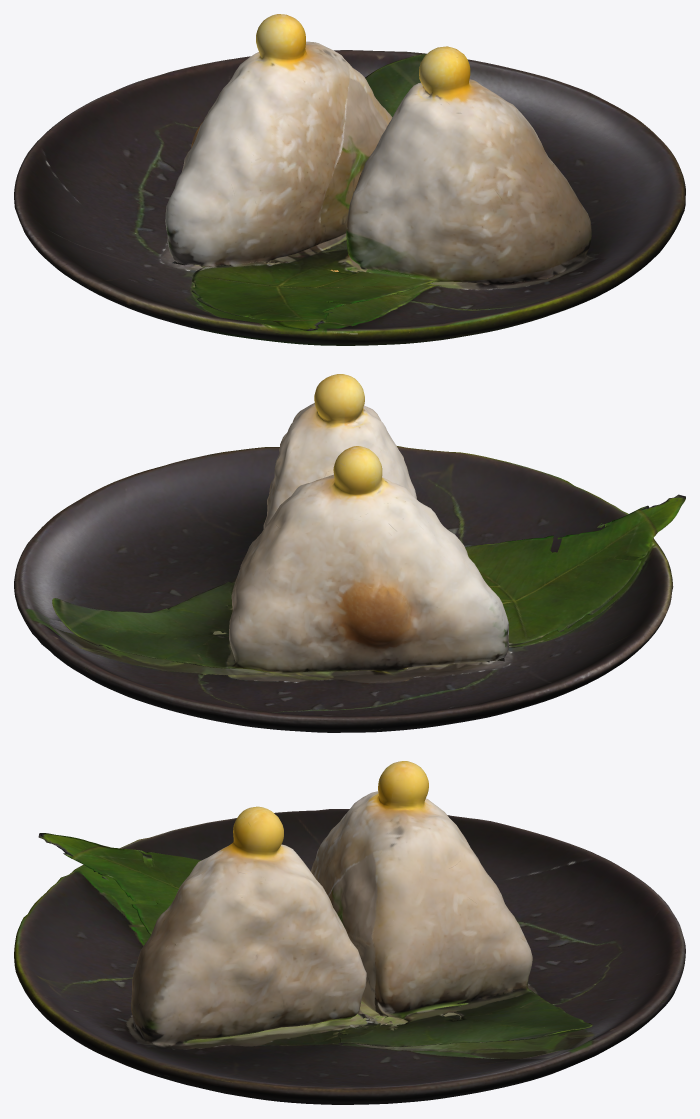
Rendered from Two_triangular_rice_b_1107071356_refine.fbx.
The picture shows the model from 3 angles, top to bottom: view 1: azimuth 30°, elevation 25°; view 2: azimuth 150°, elevation 25°; view 3: azimuth 270°, elevation 25°; orthographic projection. The views are drawn at different scales.
Visible parts, largest first — view 1: Mesh1_Mesh1.022; view 2: Mesh1_Mesh1.022; view 3: Mesh1_Mesh1.022.
Boxes of the visible parts, x1=… form: Mesh1_Mesh1.022: x1=14, y1=14, x2=685, y2=345; Mesh1_Mesh1.022: x1=14, y1=374, x2=685, y2=732; Mesh1_Mesh1.022: x1=14, y1=761, x2=685, y2=1104.
Size of the model in its own units: 200 by 72.17 by 199.
Materials: 1 (1 with a texture image).
